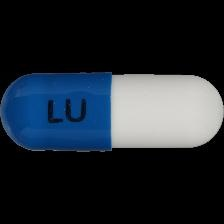68180-334: (0, 0, 224, 224)
